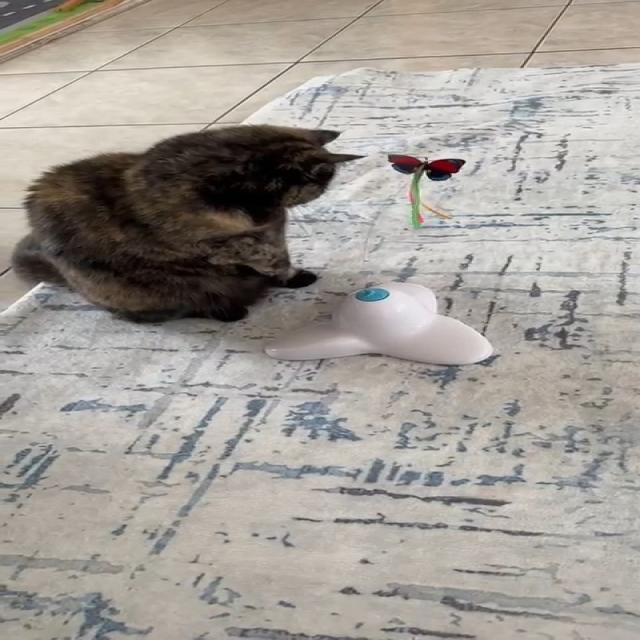authorized: (9, 122, 368, 324)
